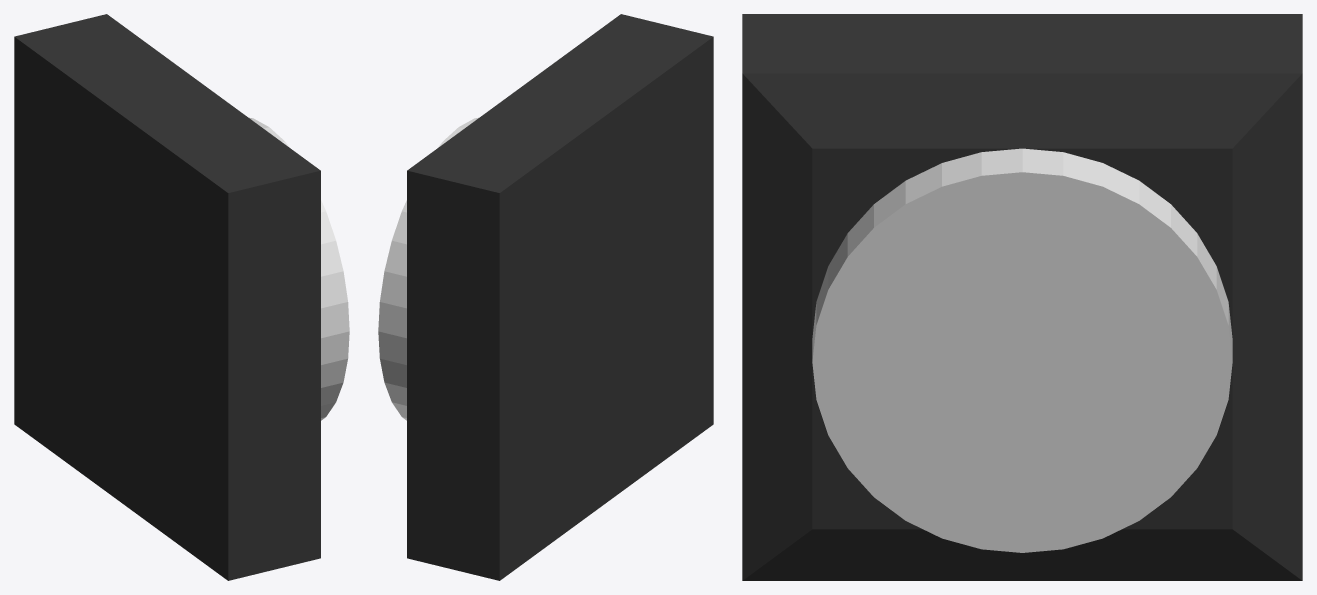
File: trn_projectileBtn.fbx
3 renders of one model, left to right at view 1: azimuth 30°, elevation 25°; view 2: azimuth 150°, elevation 25°; view 3: azimuth 270°, elevation 25°, orthographic. The views are drawn at different scales.
Visible parts, largest first — view 1: Cylinder; view 2: Cylinder; view 3: Cylinder.
Boxes of the visible parts, x1=… form: Cylinder: x1=14, y1=14, x2=349, y2=580; Cylinder: x1=378, y1=14, x2=713, y2=580; Cylinder: x1=742, y1=14, x2=1302, y2=580.
Size of the model in its own units: 160 by 400 by 400.
